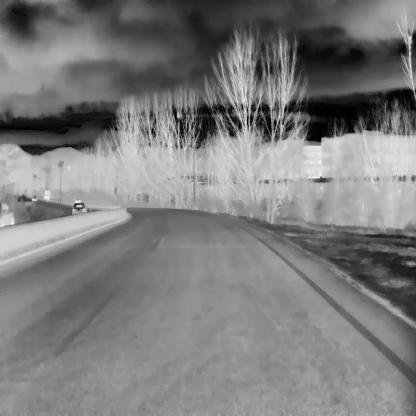car: (0, 202, 14, 227), (72, 202, 86, 214), (31, 194, 36, 201)
